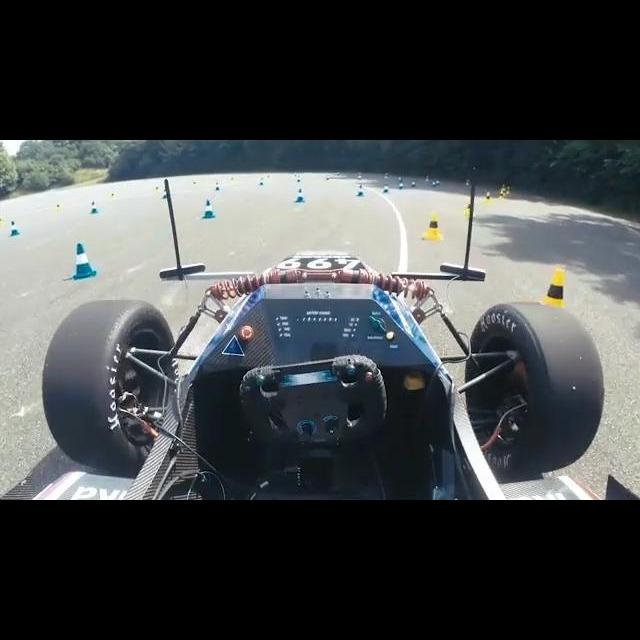Safety Cone: (526, 268, 582, 380), (69, 243, 93, 278), (420, 210, 442, 241), (465, 197, 477, 217), (202, 199, 215, 217), (293, 188, 305, 205), (10, 220, 19, 237), (484, 191, 493, 207), (89, 200, 98, 213), (162, 187, 169, 201), (109, 191, 116, 203), (295, 175, 302, 187), (358, 183, 364, 196), (498, 192, 504, 205), (215, 181, 222, 192), (56, 203, 63, 214), (504, 187, 511, 197), (154, 186, 160, 197), (500, 183, 506, 193), (259, 177, 264, 186), (383, 182, 387, 193), (399, 181, 403, 191), (411, 181, 415, 190), (432, 182, 436, 190)
vehicle: (0, 173, 640, 500)
